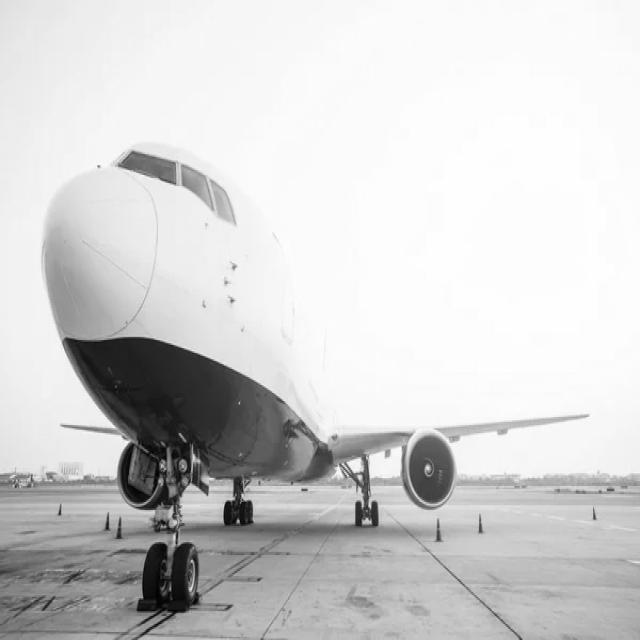Aircraft: (46, 128, 588, 609)
